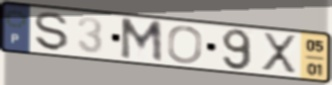3: (76, 16, 106, 56)
9: (220, 27, 256, 72)
M: (119, 17, 165, 65)
O: (166, 24, 205, 65)
S: (33, 11, 71, 54)
X: (260, 31, 299, 77)
